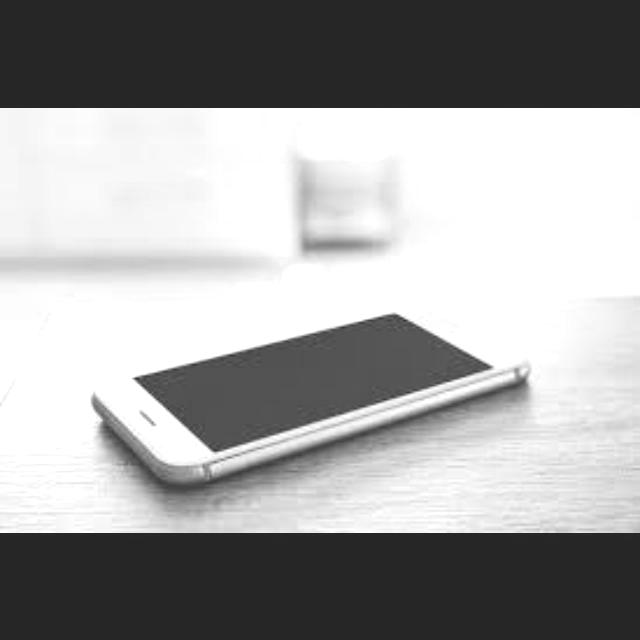fake: (81, 300, 549, 502)
